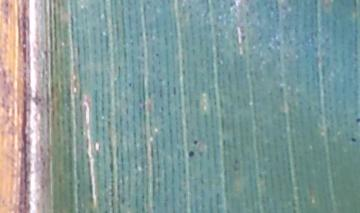tarspot: (187, 150, 196, 159), (353, 115, 360, 126), (349, 137, 358, 145), (191, 139, 199, 145)
